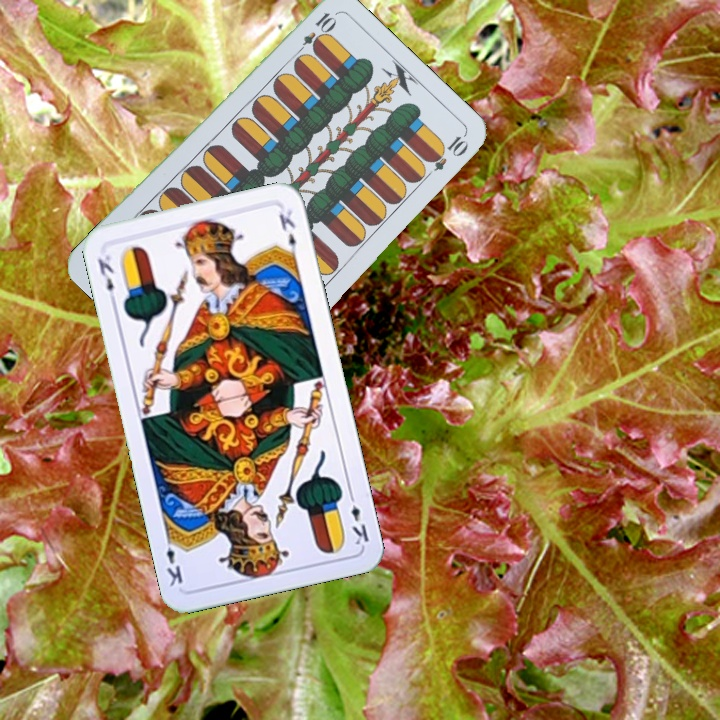E10: (291, 8, 338, 59)
EK: (345, 488, 372, 548), (93, 251, 119, 306)
